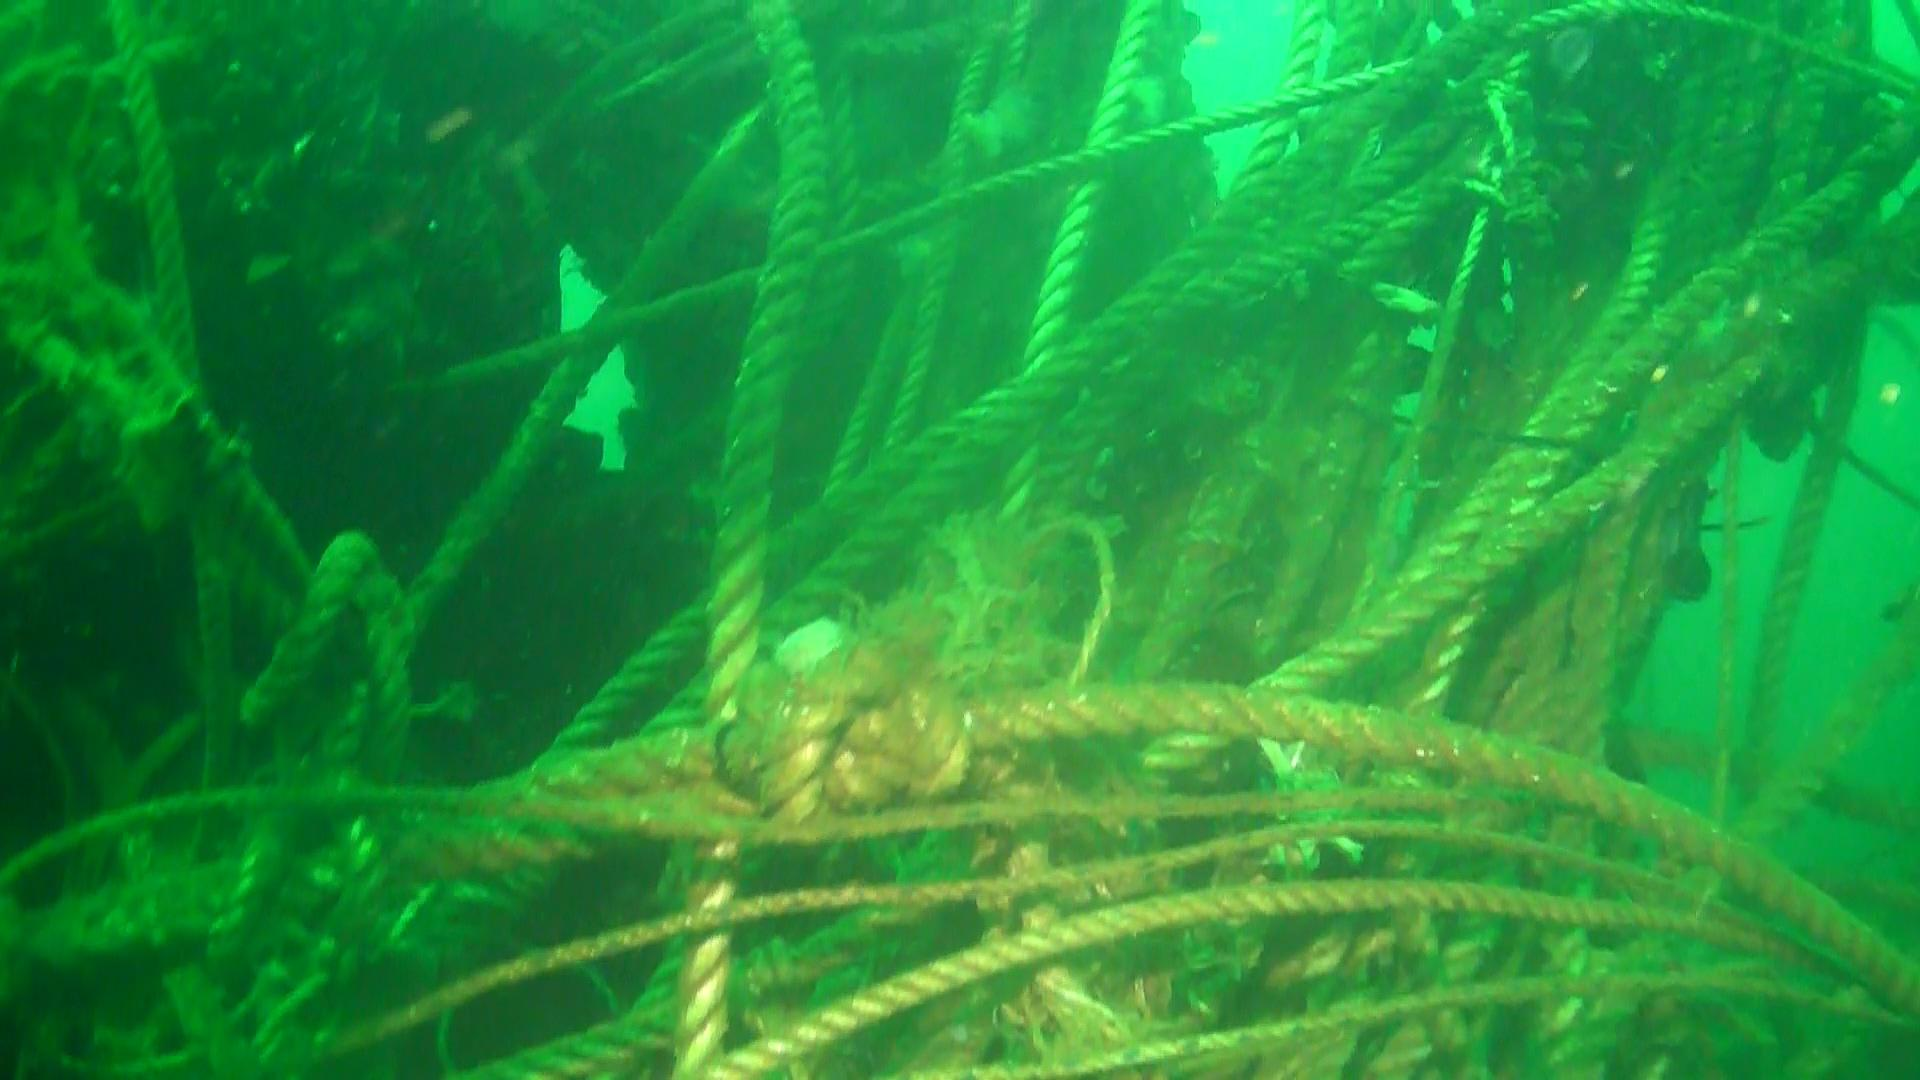bundle of ropes: (0, 1, 1920, 1080)
